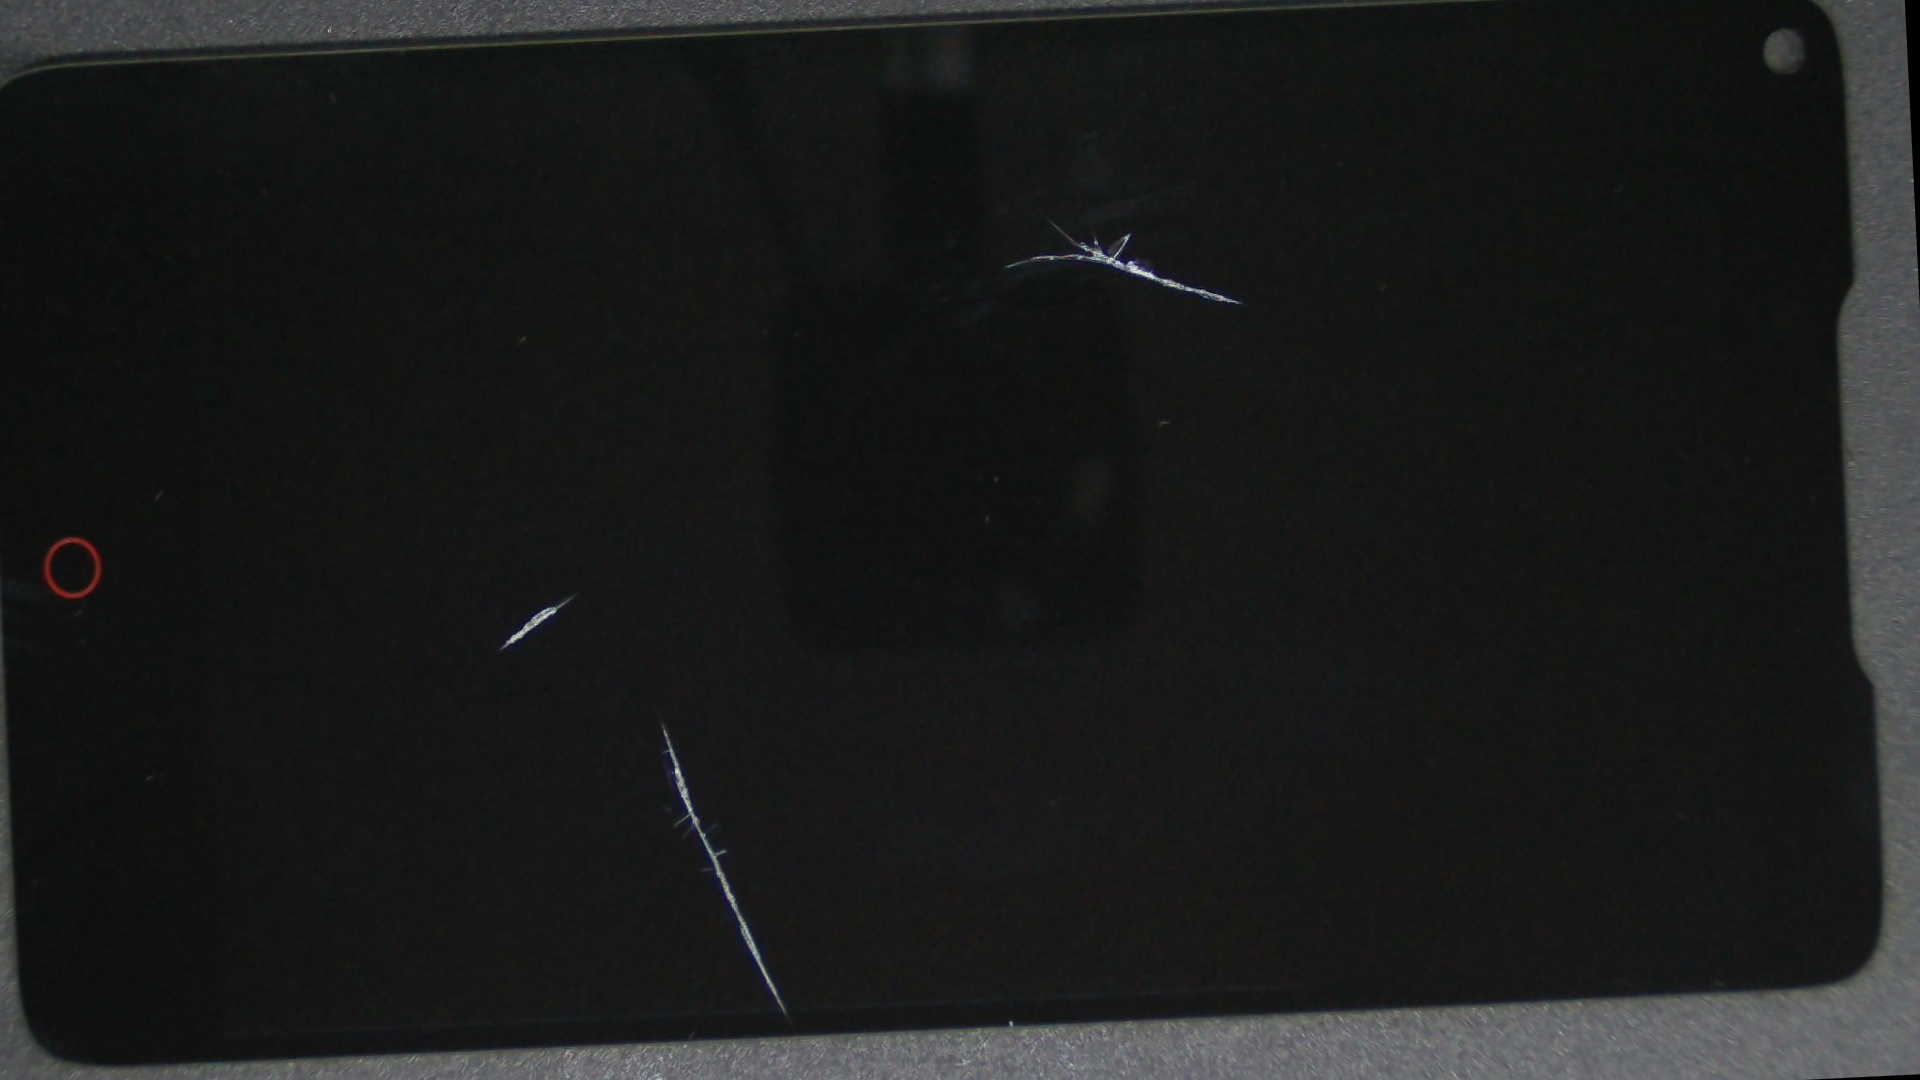oil: (302, 311, 1023, 1080), (257, 251, 889, 936), (495, 38, 1605, 402)
